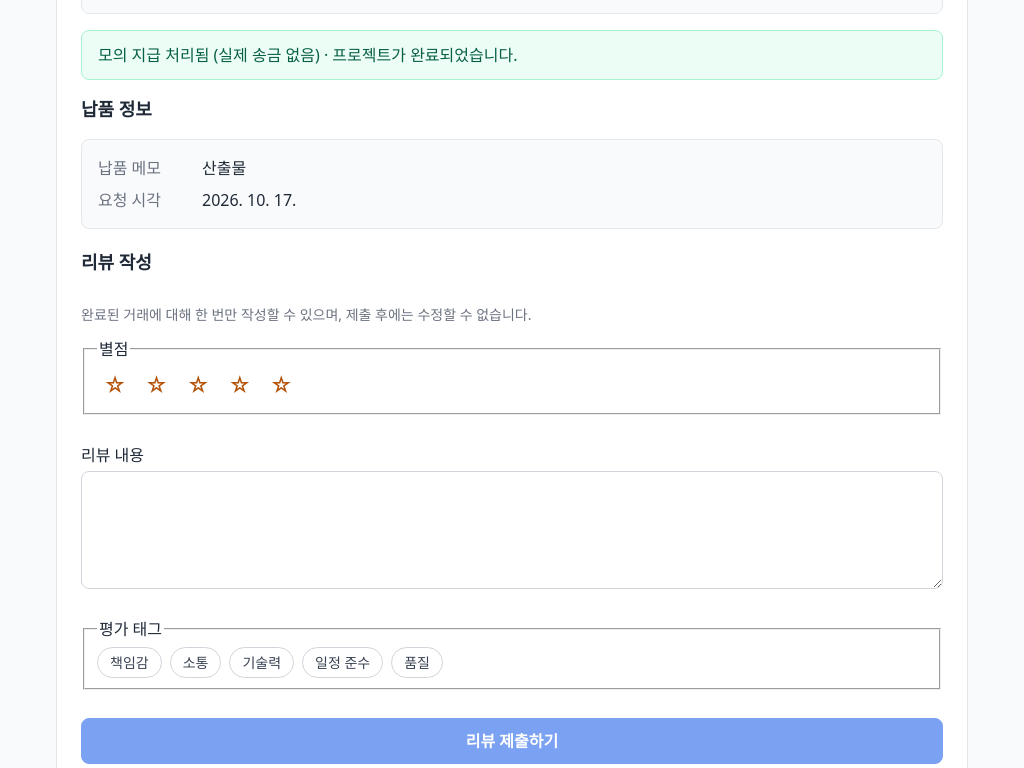
mutual review UI (REV) › lets the client submit a review once and then hides the form
The image size is (1024, 768).
(page scrolled)
expect the heading "리뷰 작성" is shown: met, box [81,250,152,274]
Click the button named "5점" at (281,385), box [263,367,299,403]
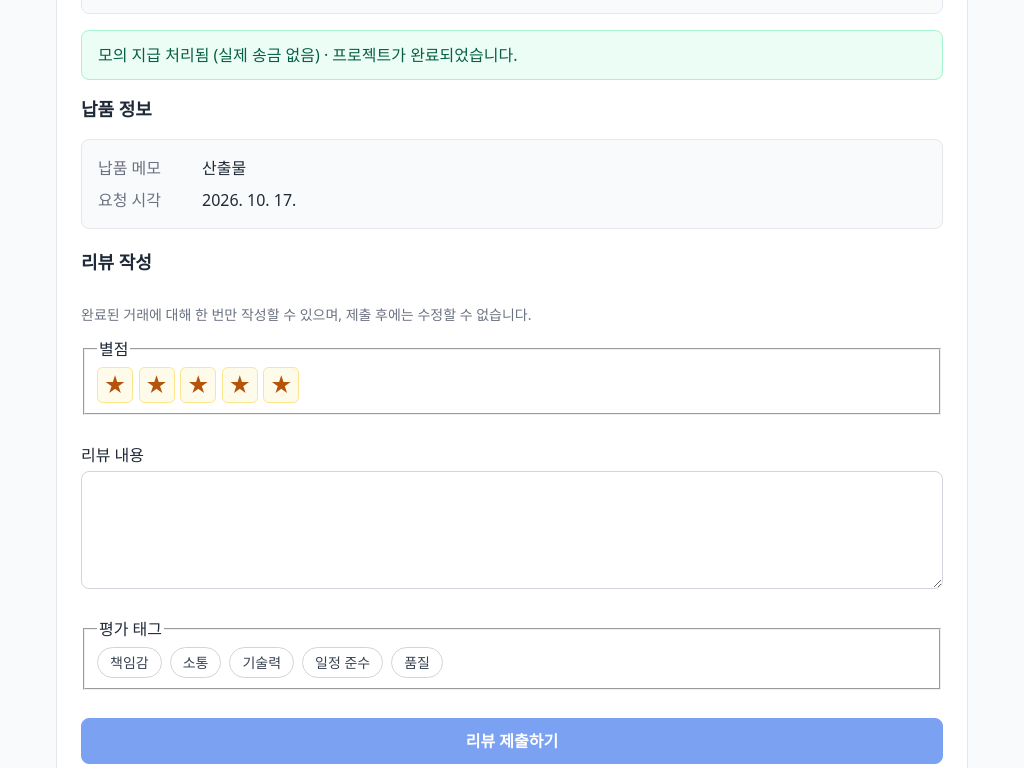
Type "훌륭했습니다" into the text box labelled "리뷰 내용" at (512,530), box [81,471,943,589]
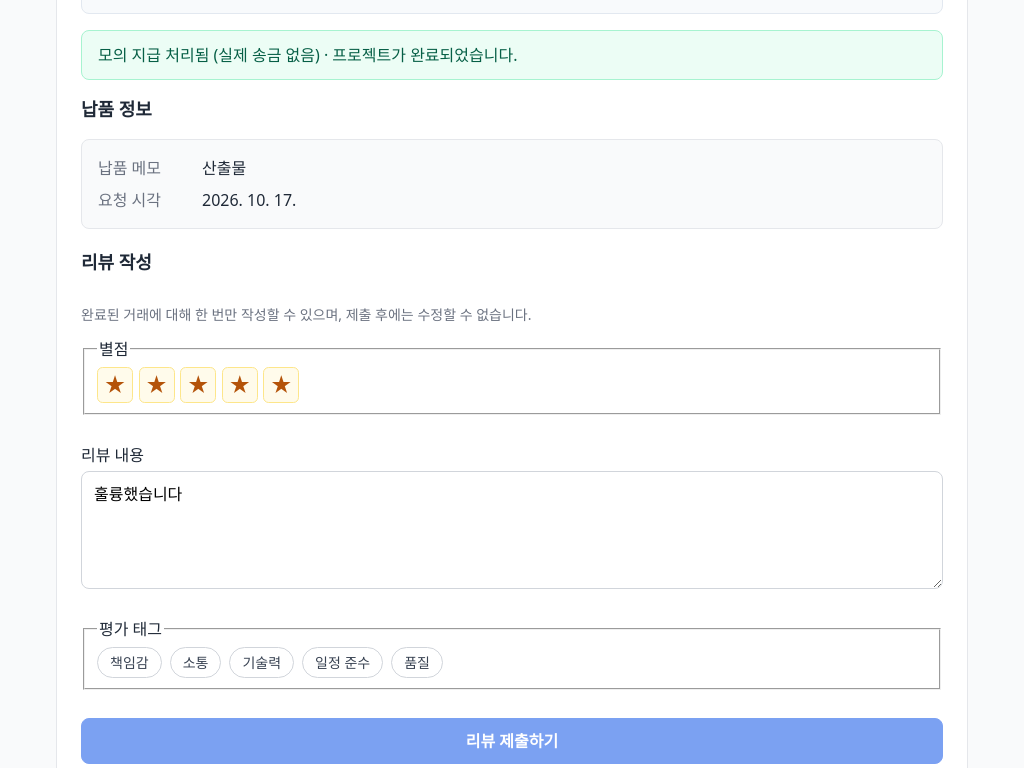
Click the button "책임감" at (129,662), box [97,647,162,678]
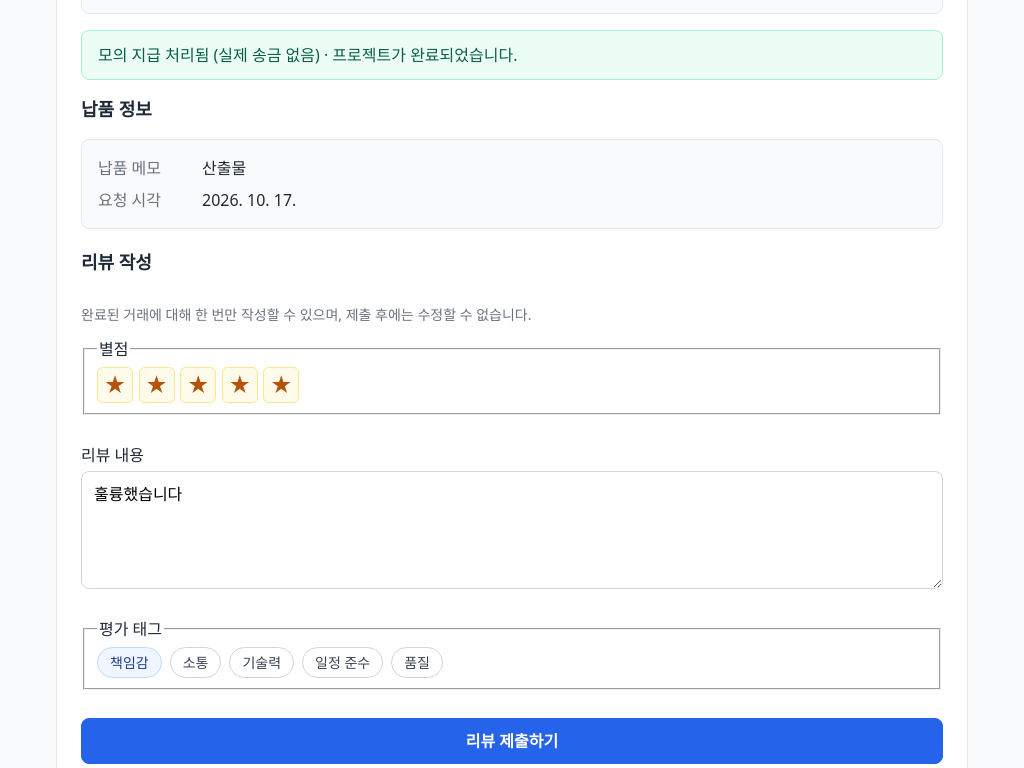
Click the button "기술력" at (262,662), box [229,647,294,678]
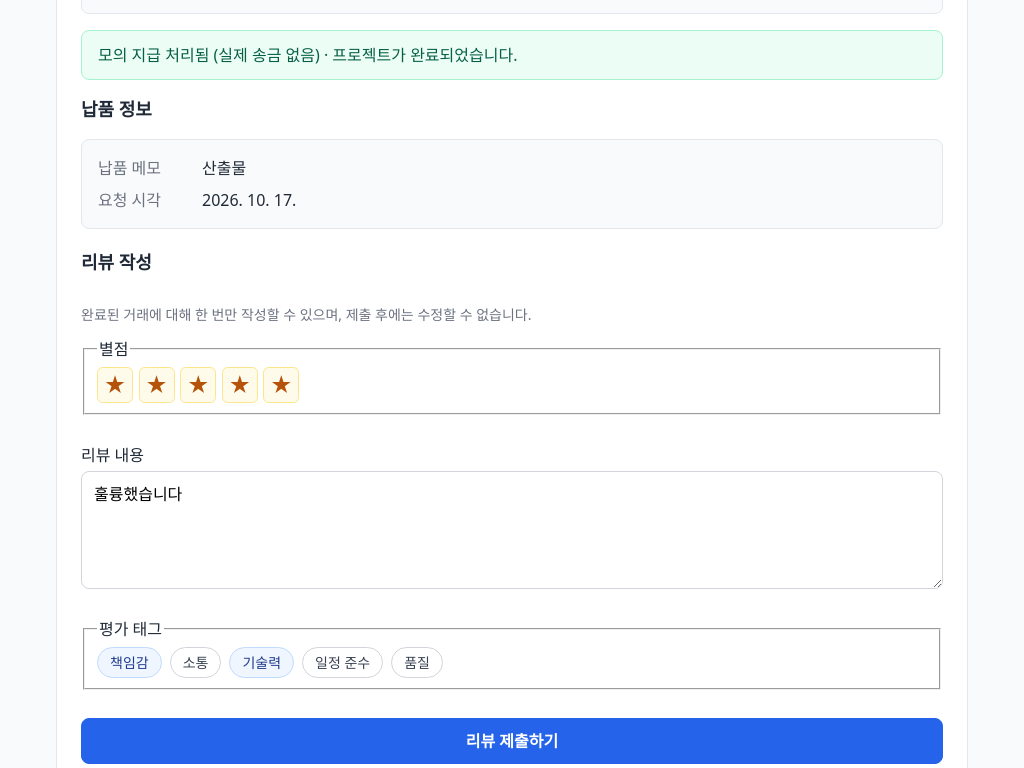
Click the button "리뷰 제출하기" at (512,741), box [81,718,943,764]
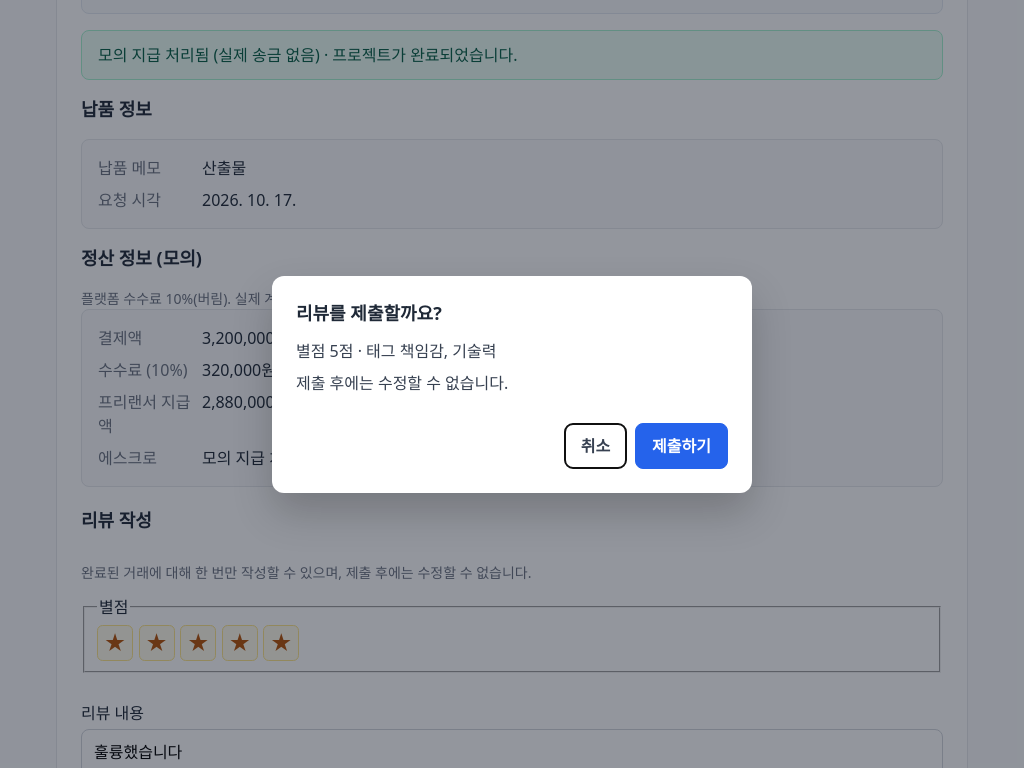
Click the button "제출하기" at (682,446), box [635,422,728,468]
(page scrolled)
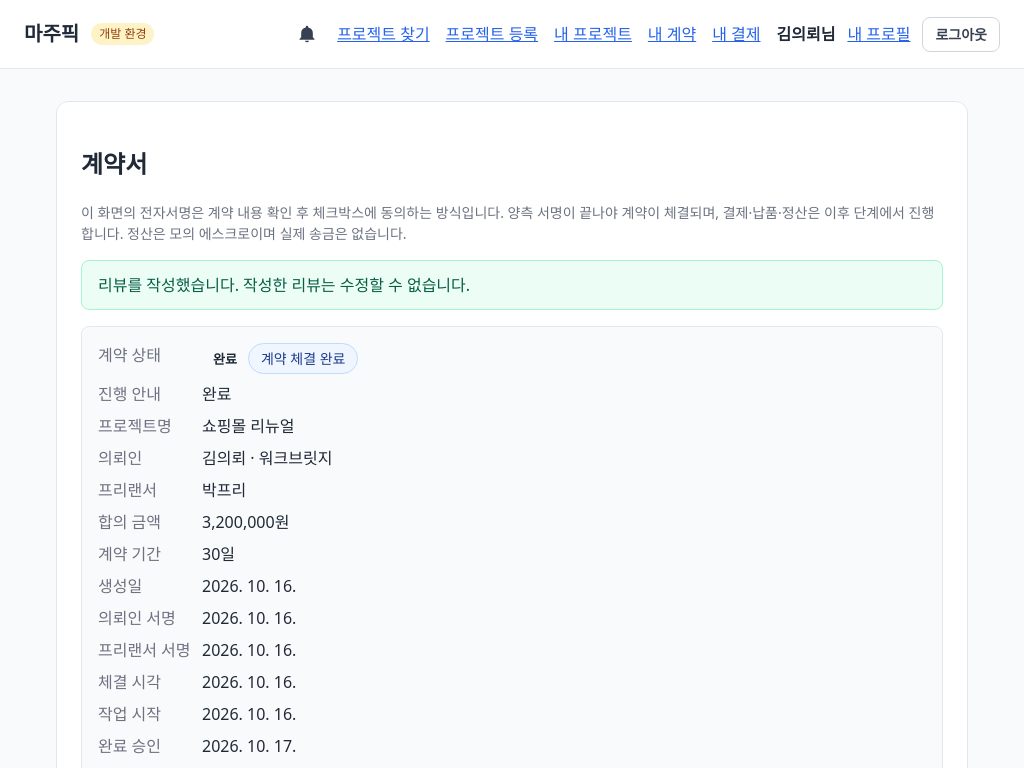
expect the heading "리뷰 작성" is not shown: met
expect the text "리뷰를 작성했습니다. 작성한 리뷰는 수정할 수 없습니다." is shown: met, box [81,260,943,310]
